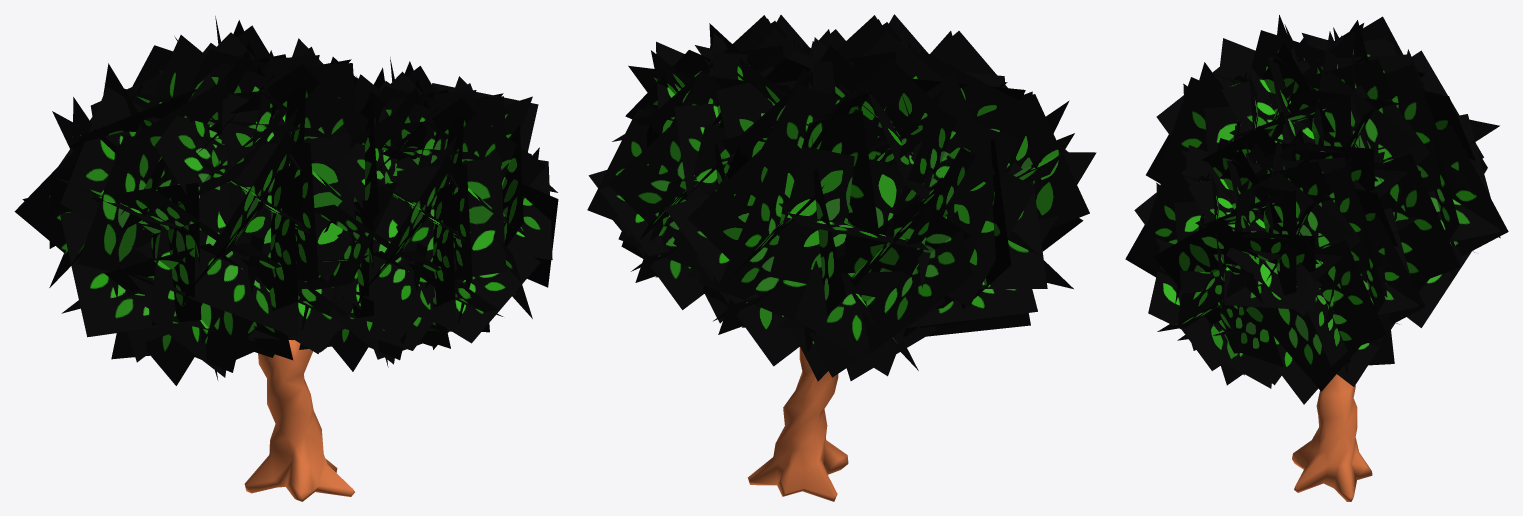
Rendered from Tree3LP.fbx.
3 renders of one model, left to right at view 1: azimuth 30°, elevation 25°; view 2: azimuth 150°, elevation 25°; view 3: azimuth 270°, elevation 25°, orthographic. The views are drawn at different scales.
Visible parts, largest first — view 1: Leafconj.001, baseLP.001; view 2: Leafconj.001, baseLP.001; view 3: Leafconj.001, baseLP.001.
Part boxes in pixels (x1,y1,x2,y2): Leafconj.001: [14, 16, 558, 385]; baseLP.001: [244, 340, 354, 501]; Leafconj.001: [587, 14, 1096, 381]; baseLP.001: [747, 347, 848, 501]; Leafconj.001: [1125, 15, 1508, 404]; baseLP.001: [1292, 374, 1372, 501].
Size of the model in its own units: 2304 by 2213 by 1838.
